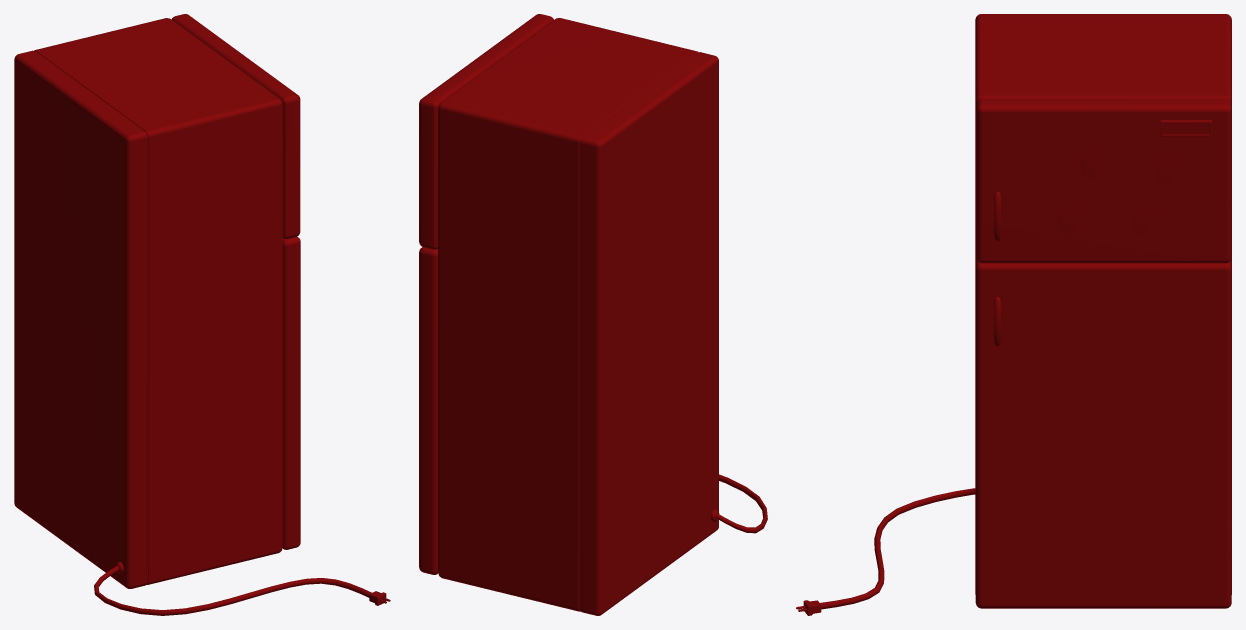
File: Fridge.glb
The picture shows the model from 3 angles, left to right: view 1: azimuth 30°, elevation 25°; view 2: azimuth 150°, elevation 25°; view 3: azimuth 270°, elevation 25°; orthographic projection. The views are drawn at different scales.
Parts seen in each view (by area): view 1: fridge; view 2: fridge; view 3: fridge.
Part boxes in pixels (x1,y1,x2,y2): fridge: (14, 14, 390, 615); fridge: (419, 14, 767, 615); fridge: (796, 14, 1231, 615).
Size of the model in its own units: 5.64 by 11.26 by 8.82.
